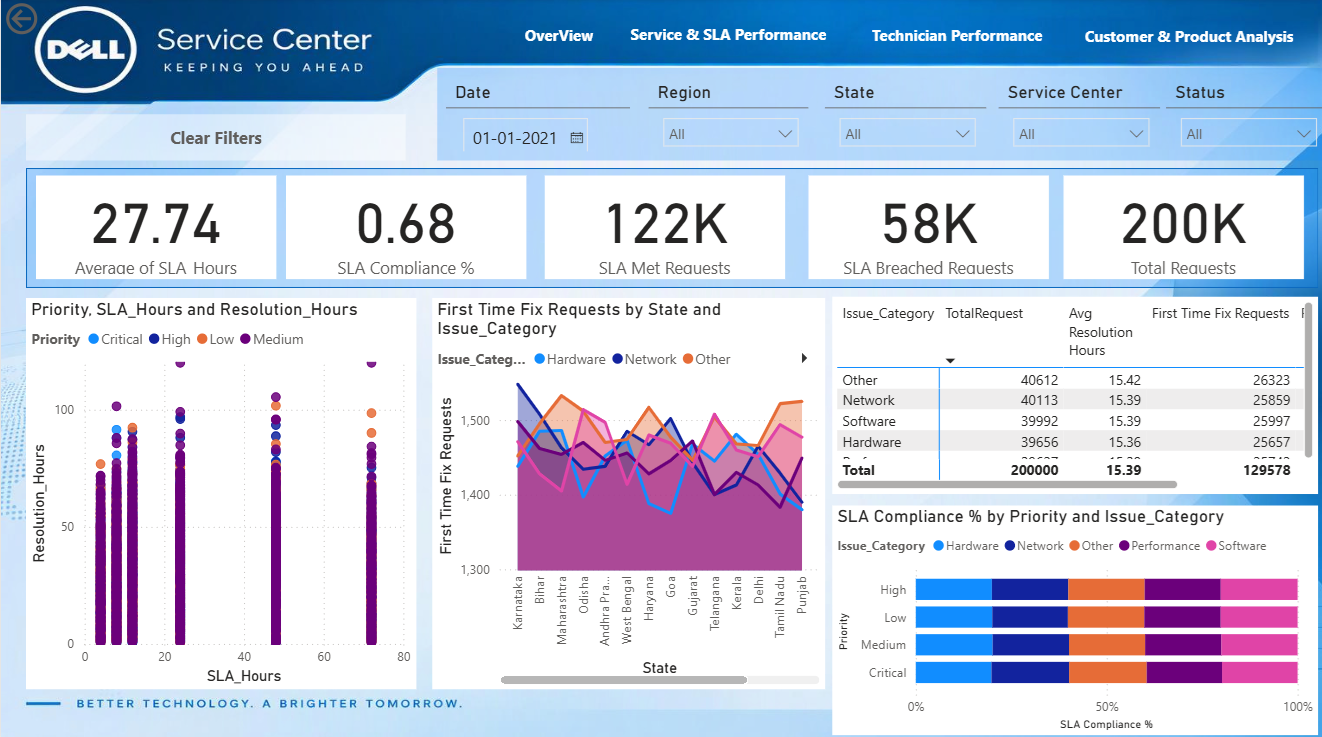

What the dashboard file says about the page in this screenshot:
{"tool":"powerbi","page":{"name":"Service & SLA Performance","canvas":[1280,720],"ordinal":1},"visuals":[{"type":"shape","box":[437.9,15.7,833.7,44.6],"z":0},{"type":"actionButton","box":[488.6,15.7,100.1,39.8],"z":1000},{"type":"actionButton","box":[597.2,14.5,209.9,38.6],"z":2000},{"type":"actionButton","box":[820.4,15.7,205.1,39.8],"z":3000},{"type":"actionButton","box":[1035.1,14.5,223.2,43.4],"z":4000},{"type":"shape","box":[421,67.6,859,89.3],"z":5000},{"type":"slicer","title":"Date","fields":{"Values":["Dim_Date.Date"]},"box":[429.5,76,177.3,72.4],"z":6000},{"type":"slicer","title":"Region","fields":{"Values":["Dim_Location.Region"]},"box":[624.9,76,154.4,72.4],"z":7000},{"type":"slicer","title":"State","fields":{"Values":["Dim_Location.State"]},"box":[795,76,155.6,72.4],"z":8000},{"type":"slicer","title":"Service Center","fields":{"Values":["Dim_Location.Service_Center"]},"box":[962.7,76,155.6,72.4],"z":9000},{"type":"slicer","title":"Status","fields":{"Values":["Fact_Service.Service_Status"]},"box":[1124.4,76,155.6,72.4],"z":10000},{"type":"actionButton","title":"Clear Filters","box":[24.1,112.2,366.8,44.6],"z":11000},{"type":"shape","box":[24.1,164.1,1247.5,115.8],"z":12000},{"type":"card","fields":{"Values":["Fact_Service.SLA Compliance %"]},"box":[275.1,171.3,231.6,100.1],"z":13000},{"type":"card","fields":{"Values":["Fact_Service.SLA Met Requests"]},"box":[524.8,171.3,231.6,100.1],"z":14000},{"type":"card","fields":{"Values":["Fact_Service.SLA Breached Requests"]},"box":[779.4,171.3,231.6,100.1],"z":15000},{"type":"card","fields":{"Values":["Fact_Service.Total Requests"]},"box":[1025.5,171.3,231.6,100.1],"z":16000},{"type":"card","fields":{"Values":["Avg(Fact_Service.SLA_Hours)"]},"box":[33.8,171.3,231.6,100.1],"z":17000},{"type":"scatterChart","fields":{"X":["Fact_Service.SLA_Hours"],"Y":["Fact_Service.Resolution_Hours"],"Series":["Fact_Service.Priority"]},"box":[24.1,289.5,376.4,377.6],"z":18000},{"type":"hundredPercentStackedBarChart","fields":{"Category":["Fact_Service.Priority"],"Y":["Fact_Service.SLA Compliance %"],"Series":["Fact_Service.Issue_Category"]},"box":[802.3,489.8,469.3,222],"z":19000},{"type":"pivotTable","fields":{"Values":["CountNonNull(Fact_Service.TotalRequest)","Fact_Service.Avg Resolution Hours","Fact_Service.FTF %","Fact_Service.Repeat Visit %"],"Rows":["Fact_Service.Issue_Category"]},"box":[802.3,288.3,469.3,190.6],"z":20000},{"type":"areaChart","fields":{"Y":["Fact_Service.FTF %"],"Series":["Fact_Service.Issue_Category"],"Category":["Dim_Location.State"]},"box":[416.2,289.5,378.8,377.6],"z":21000},{"type":"actionButton","box":[0,0,100,40],"z":22000}]}

Visuals, with their boxes in screenshot pixels (x1, y1, x2, y2), scaled from the page's 1280x720 canvas onto the 1322x737 screenshot:
shape: [452, 16, 1313, 62]
actionButton: [505, 16, 608, 57]
actionButton: [617, 15, 834, 54]
actionButton: [847, 16, 1059, 57]
actionButton: [1069, 15, 1300, 59]
shape: [435, 69, 1321, 161]
"Date" slicer: [444, 78, 627, 152]
"Region" slicer: [645, 78, 805, 152]
"State" slicer: [821, 78, 982, 152]
"Service Center" slicer: [994, 78, 1155, 152]
"Status" slicer: [1161, 78, 1321, 152]
"Clear Filters" actionButton: [25, 115, 404, 161]
shape: [25, 168, 1313, 287]
card - Fact_Service.SLA Compliance %: [284, 175, 523, 278]
card - Fact_Service.SLA Met Requests: [542, 175, 781, 278]
card - Fact_Service.SLA Breached Requests: [805, 175, 1044, 278]
card - Fact_Service.Total Requests: [1059, 175, 1298, 278]
card - Avg(Fact_Service.SLA_Hours): [35, 175, 274, 278]
scatterChart - Fact_Service.SLA_Hours x Fact_Service.Resolution_Hours: [25, 296, 414, 683]
hundredPercentStackedBarChart - Fact_Service.Priority x Fact_Service.SLA Compliance %: [829, 501, 1313, 729]
pivotTable - CountNonNull(Fact_Service.TotalRequest) x Fact_Service.Avg Resolution Hours: [829, 295, 1313, 490]
areaChart - Fact_Service.FTF % x Fact_Service.Issue_Category: [430, 296, 821, 683]
actionButton: [0, 0, 103, 41]
